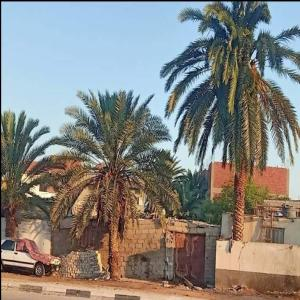palm tree: (159, 1, 300, 241), (44, 86, 185, 280), (0, 108, 50, 238)
